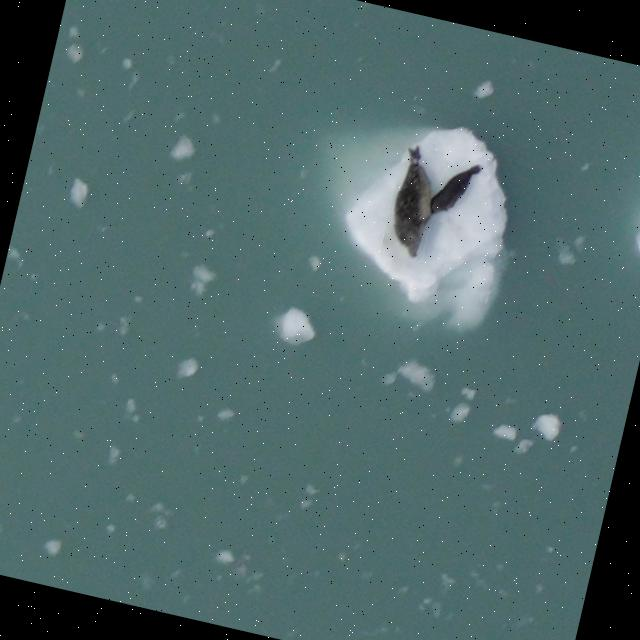seal: (379, 140, 451, 264), (424, 154, 486, 228)
